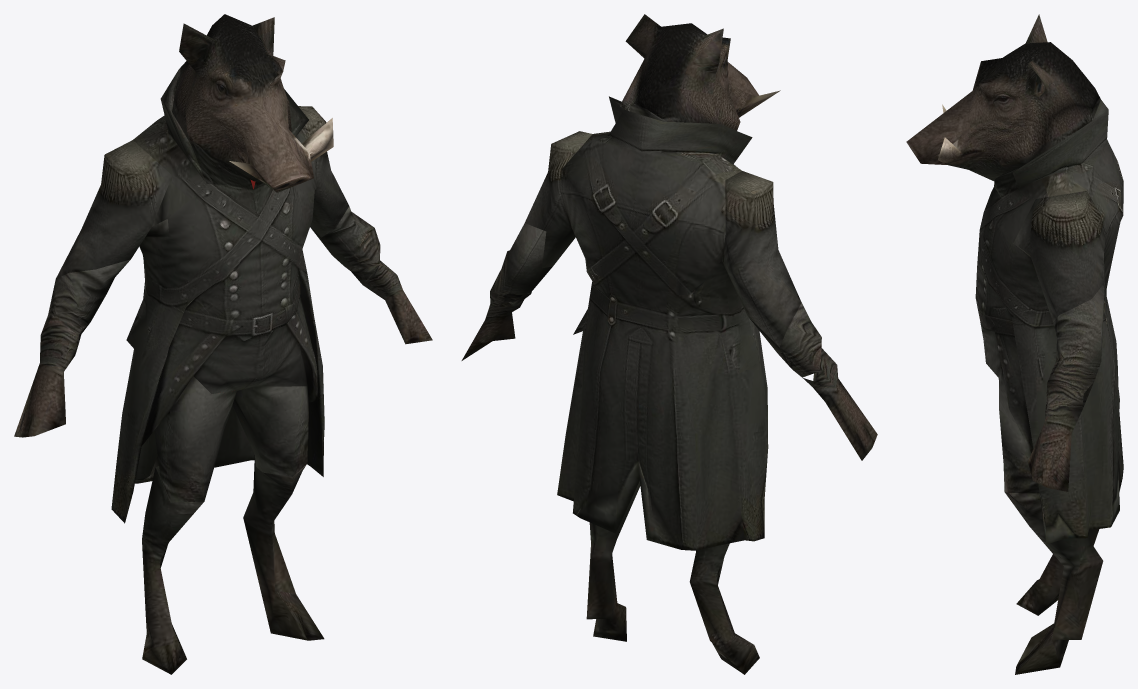
File: cavalry_spd_gibs.glb
3 views of the same model, side by side, from view 1: azimuth 30°, elevation 25°; view 2: azimuth 150°, elevation 25°; view 3: azimuth 270°, elevation 25° (orthographic). The views are drawn at different scales.
Parts seen in each view (by area): view 1: Body.001, Head.001, Arm.R.001, Forarm.R.001, Upleg.R.001, Leg.L.001, Leg.R.001, Upleg.L.001, Forarm.L.001, Arm.L.001; view 2: Body.001, Head.001, Arm.R.001, Forarm.R.001, Forarm.L.001, Leg.R.001, Arm.L.001, Leg.L.001; view 3: Body.001, Head.001, Arm.L.001, Forarm.L.001, Leg.L.001, Upleg.L.001, Leg.R.001.
Boxes of the visible parts, <box> form: Body.001: <box>111,70,324,523</box>; Head.001: <box>172,14,333,192</box>; Arm.R.001: <box>56,140,172,278</box>; Forarm.R.001: <box>14,259,130,437</box>; Upleg.R.001: <box>154,376,236,502</box>; Leg.L.001: <box>243,455,324,640</box>; Leg.R.001: <box>142,467,203,674</box>; Upleg.L.001: <box>232,386,308,476</box>; Forarm.L.001: <box>310,206,432,344</box>; Arm.L.001: <box>298,106,348,237</box>; Body.001: <box>557,96,768,550</box>; Head.001: <box>620,14,780,130</box>; Arm.R.001: <box>722,171,801,346</box>; Forarm.R.001: <box>749,303,877,460</box>; Forarm.L.001: <box>461,223,552,360</box>; Leg.R.001: <box>689,543,759,674</box>; Arm.L.001: <box>525,131,592,268</box>; Leg.L.001: <box>586,481,640,641</box>; Body.001: <box>975,100,1123,544</box>; Head.001: <box>906,14,1100,198</box>; Arm.L.001: <box>1013,191,1105,322</box>; Forarm.L.001: <box>1028,283,1104,491</box>; Leg.L.001: <box>1004,492,1103,674</box>; Upleg.L.001: <box>999,409,1039,493</box>; Leg.R.001: <box>1016,529,1099,615</box>.
Bounding box in the file's own units: 0.6502 × 0.9739 × 0.3189.
2 materials, 1 textured.
